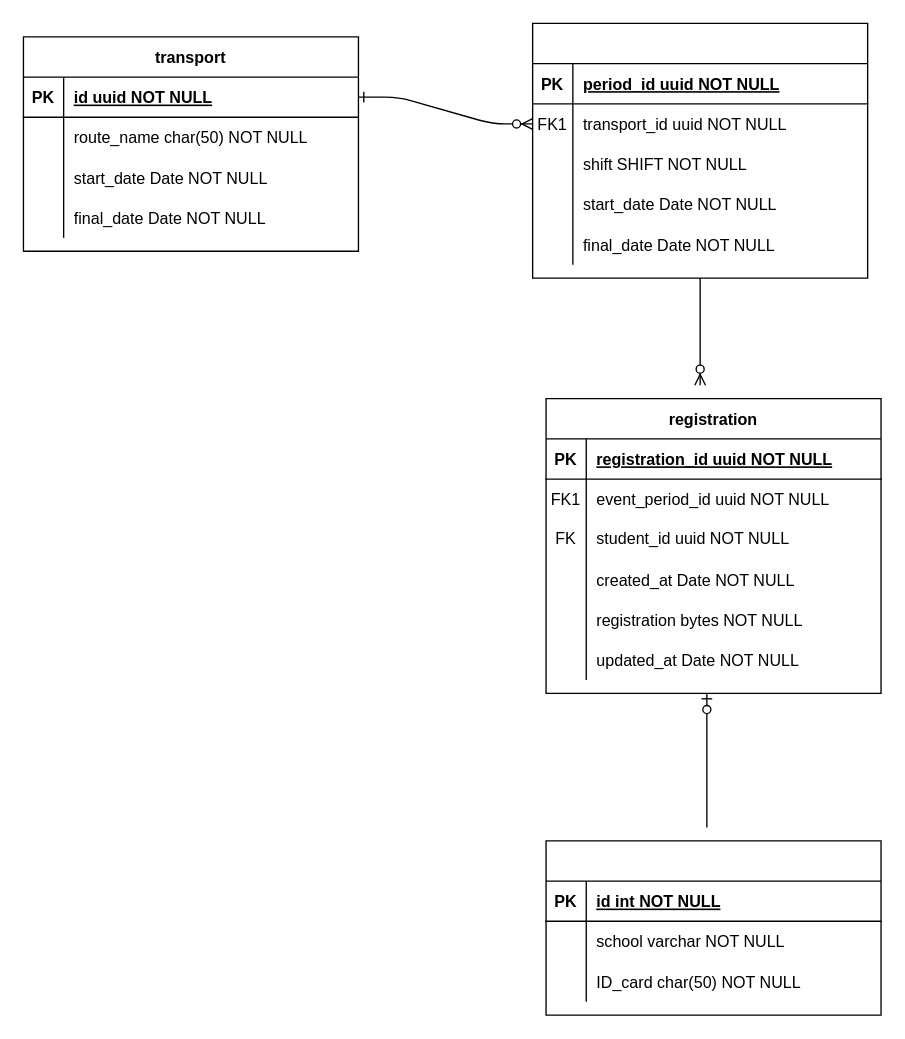
Some shapes in this 905 by 1039 pixel diagram are drawn without their labels. The shapes that lost their labels are listed below. From the top down, each one's box as (x1, y1, x2, y2) in pixels, then its label:
(531, 22, 868, 278): event_period
(545, 840, 881, 1015): student
